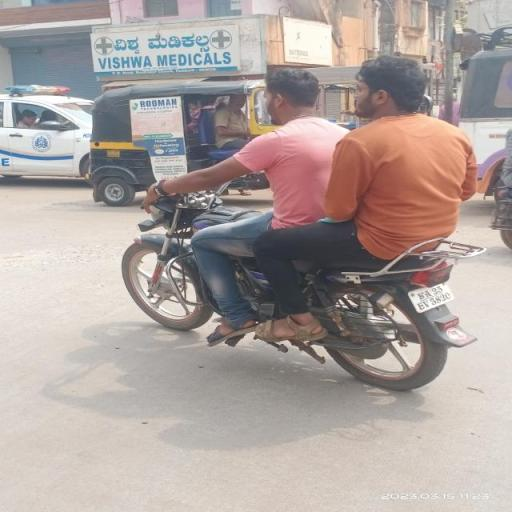bike: (118, 53, 484, 396)
numberplate: (404, 270, 460, 319)
withouthelmet: (359, 58, 423, 116), (262, 72, 321, 116)
